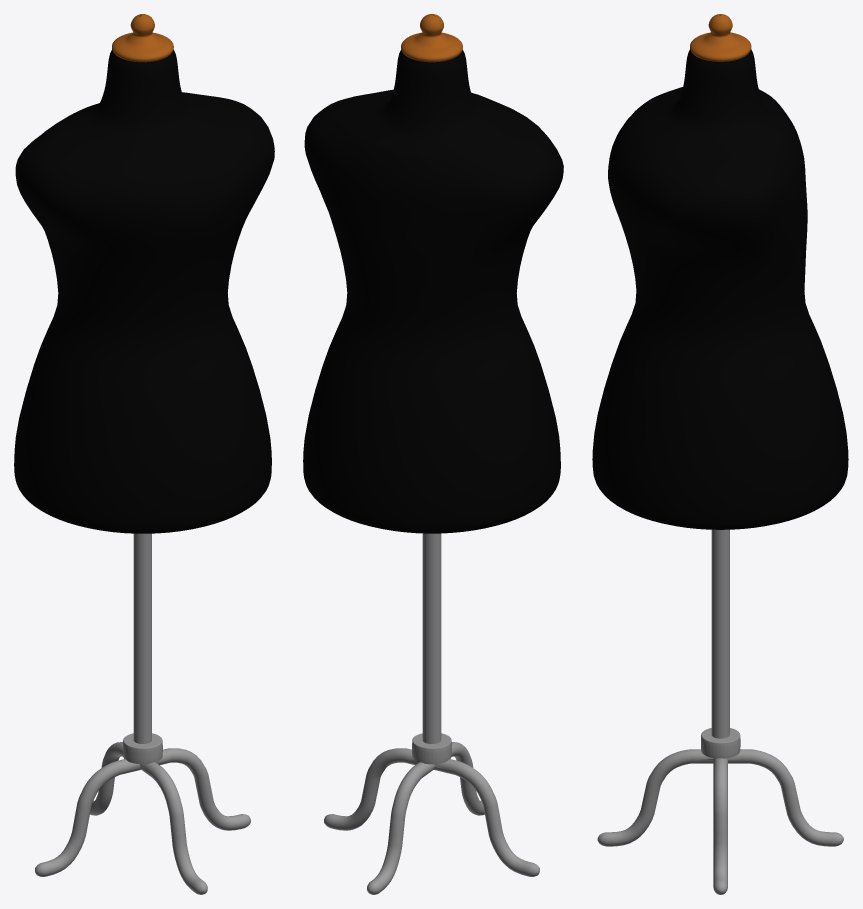
File: mannequin_large_1.2.glb
The picture shows the model from 3 angles, left to right: view 1: azimuth 30°, elevation 25°; view 2: azimuth 150°, elevation 25°; view 3: azimuth 270°, elevation 25°; orthographic projection.
Visible parts, largest first — view 1: Cylinder_Material.001_0, Cylinder.002_Material_0, Cylinder.001__0, Cylinder; view 2: Cylinder_Material.001_0, Cylinder.002_Material_0, Cylinder.001__0, Cylinder; view 3: Cylinder_Material.001_0, Cylinder.002_Material_0, Cylinder.001__0, Cylinder.
Part boxes in pixels (box(x1,y1,x2,y2)): Cylinder_Material.001_0: box(14, 15, 274, 533); Cylinder.002_Material_0: box(35, 742, 250, 894); Cylinder.001__0: box(123, 533, 162, 764); Cylinder: box(112, 14, 173, 62); Cylinder_Material.001_0: box(303, 14, 563, 533); Cylinder.002_Material_0: box(324, 742, 539, 894); Cylinder.001__0: box(412, 533, 451, 764); Cylinder: box(401, 14, 462, 62); Cylinder_Material.001_0: box(592, 15, 848, 529); Cylinder.002_Material_0: box(597, 749, 843, 894); Cylinder.001__0: box(701, 529, 740, 758); Cylinder: box(690, 14, 751, 61).
Bounding box in the file's own units: 4.16 × 14.16 × 3.95.
